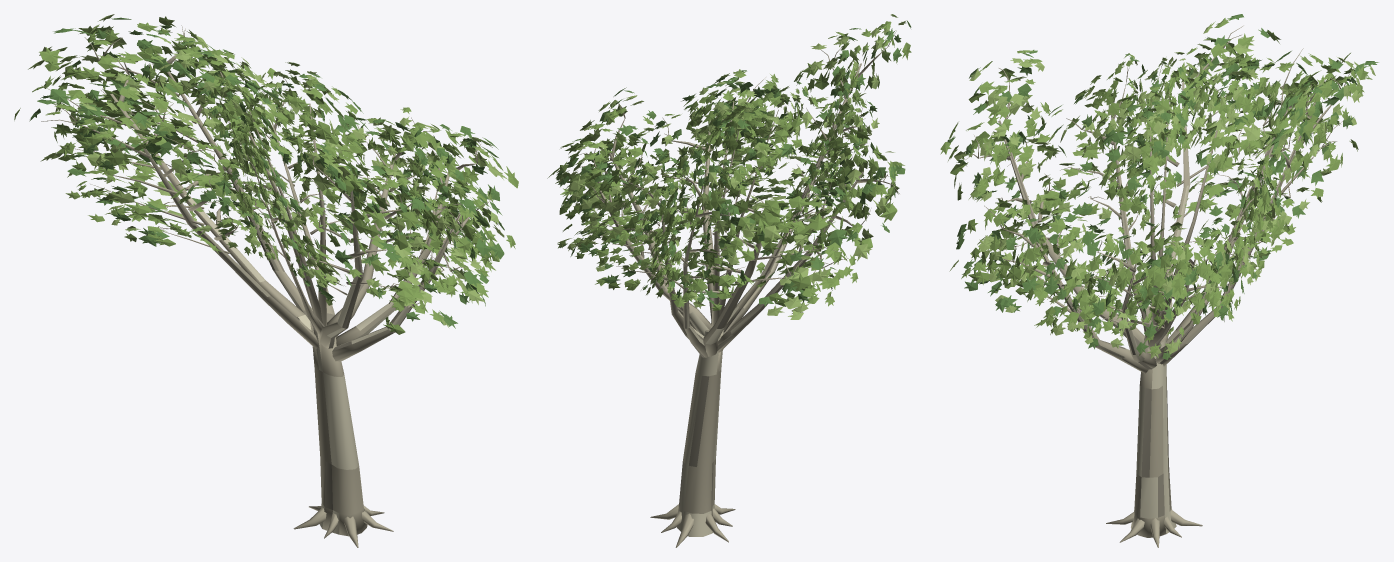
3 renders of one model, left to right at view 1: azimuth 30°, elevation 25°; view 2: azimuth 150°, elevation 25°; view 3: azimuth 270°, elevation 25°, orthographic. The views are drawn at different scales.
Parts seen in each view (by area): view 1: tree_plane_b_PlaneLeaf, tree_plane_b_PlaneBark, tree_plane_b_PlaneLeafDark, tree_plane_b_PlaneLeafLight, tree_plane_b_PlaneBarkPale, tree_plane_b_PlaneBarkBrown; view 2: tree_plane_b_PlaneLeaf, tree_plane_b_PlaneBark, tree_plane_b_PlaneLeafLight, tree_plane_b_PlaneLeafDark, tree_plane_b_PlaneBarkPale, tree_plane_b_PlaneBarkBrown; view 3: tree_plane_b_PlaneLeaf, tree_plane_b_PlaneLeafDark, tree_plane_b_PlaneLeafLight, tree_plane_b_PlaneBark, tree_plane_b_PlaneBarkPale, tree_plane_b_PlaneBarkBrown.
Part boxes in pixels (x1,y1,x2,y2): tree_plane_b_PlaneLeaf: [14, 16, 518, 334]; tree_plane_b_PlaneBark: [41, 25, 491, 547]; tree_plane_b_PlaneLeafDark: [29, 17, 504, 328]; tree_plane_b_PlaneLeafLight: [28, 14, 508, 327]; tree_plane_b_PlaneBarkPale: [110, 94, 459, 534]; tree_plane_b_PlaneBarkBrown: [113, 94, 386, 509]; tree_plane_b_PlaneLeaf: [547, 14, 911, 310]; tree_plane_b_PlaneBark: [574, 30, 899, 547]; tree_plane_b_PlaneLeafLight: [557, 20, 906, 319]; tree_plane_b_PlaneLeafDark: [556, 20, 911, 306]; tree_plane_b_PlaneBarkPale: [609, 125, 863, 536]; tree_plane_b_PlaneBarkBrown: [599, 72, 856, 510]; tree_plane_b_PlaneLeaf: [940, 18, 1372, 352]; tree_plane_b_PlaneLeafDark: [947, 14, 1378, 359]; tree_plane_b_PlaneLeafLight: [949, 21, 1375, 358]; tree_plane_b_PlaneBark: [965, 25, 1352, 547]; tree_plane_b_PlaneBarkPale: [998, 85, 1247, 533]; tree_plane_b_PlaneBarkBrown: [998, 95, 1314, 517].
Bounding box in the file's own units: 12.47 × 14.18 × 13.2.
